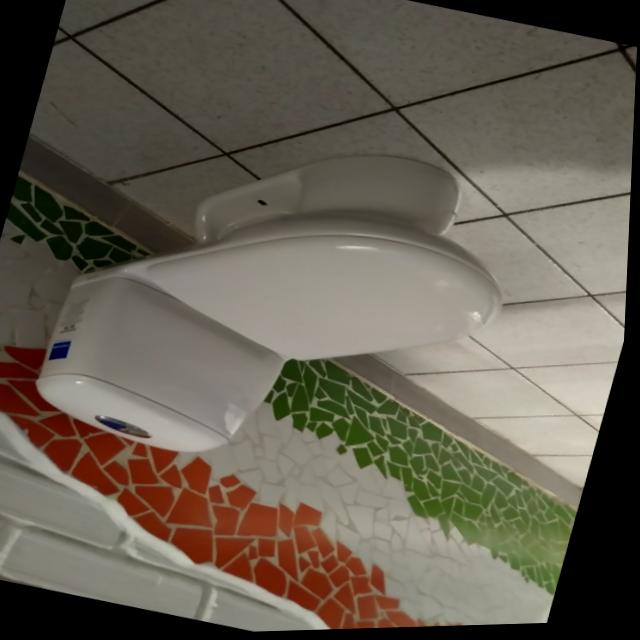toilet: (25, 89, 541, 520)
